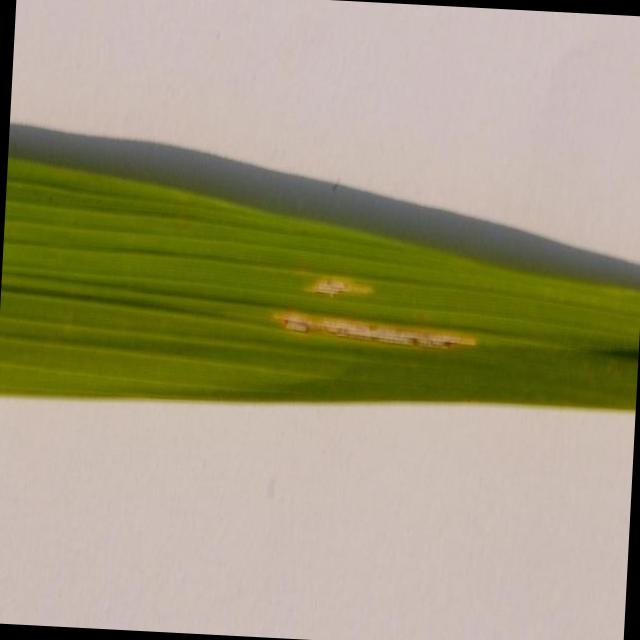Rice_Bacterial_Blight: (251, 222, 504, 372)
